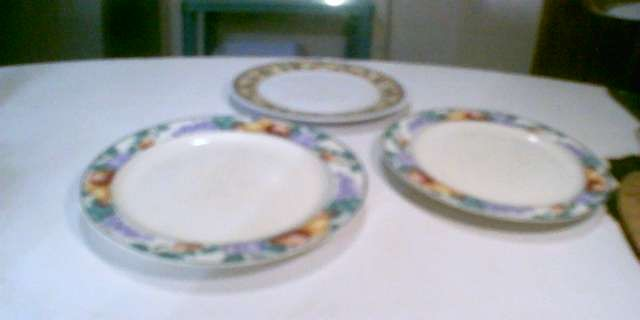empty_plate: (70, 111, 377, 280), (375, 96, 615, 233), (226, 54, 410, 129)
